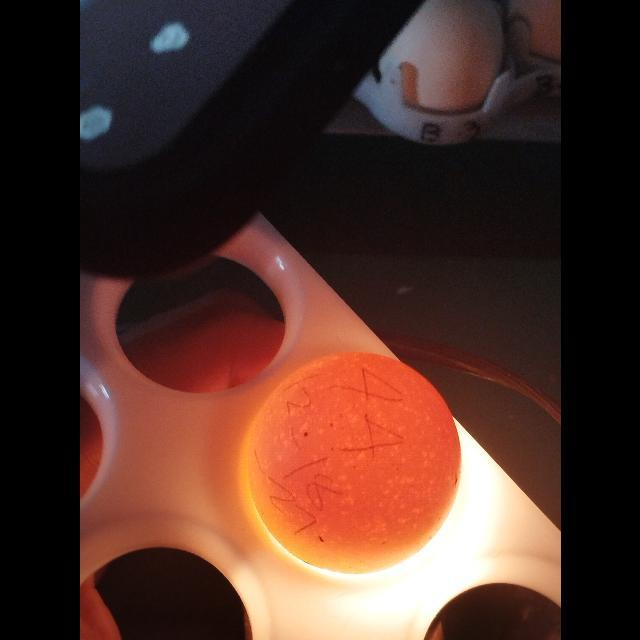Infertile: (240, 348, 464, 580)
